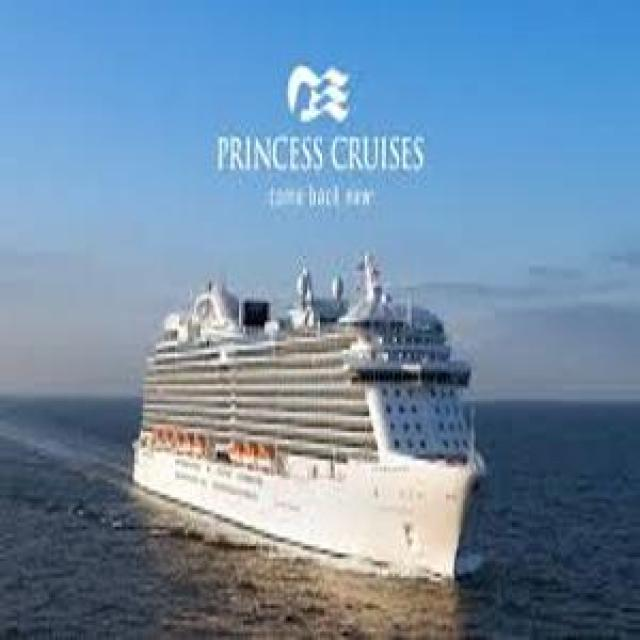passenger ship: (124, 244, 473, 577)
